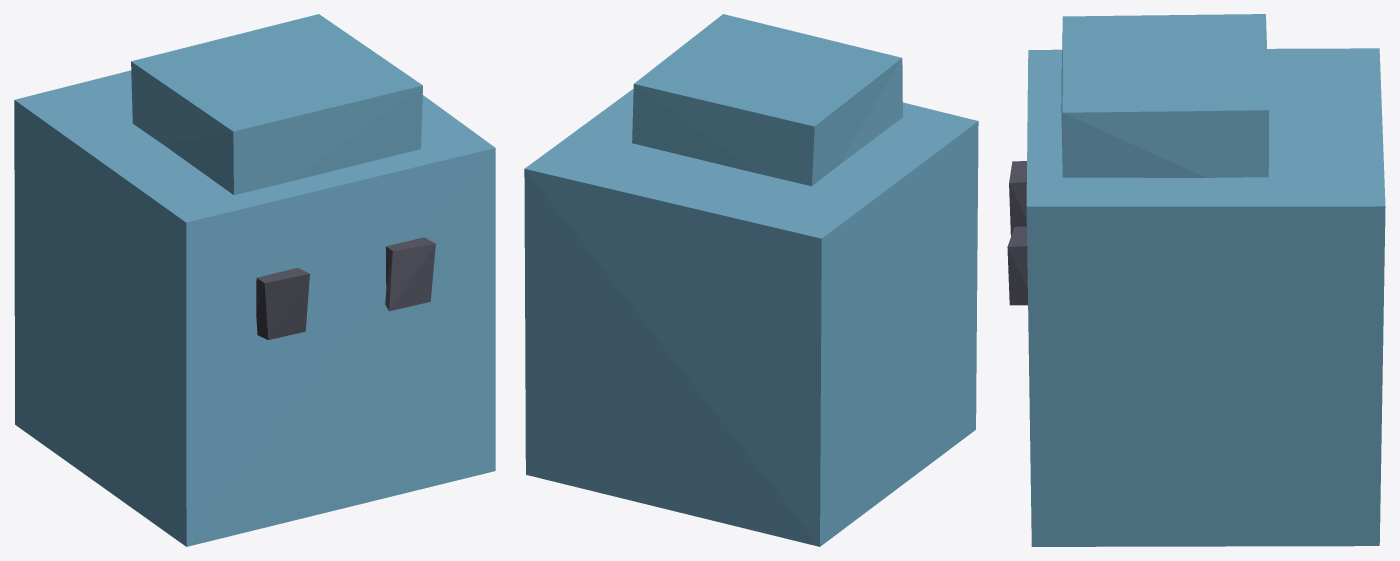
File: blob.glb
The picture shows the model from 3 angles, left to right: view 1: azimuth 30°, elevation 25°; view 2: azimuth 150°, elevation 25°; view 3: azimuth 270°, elevation 25°; orthographic projection. The views are drawn at different scales.
Visible parts, largest first — view 1: body; view 2: body; view 3: body.
Part boxes in pixels (x1,y1,x2,y2): body: (14, 14, 495, 546); body: (524, 14, 978, 546); body: (1007, 14, 1385, 546).
Size of the model in its own units: 0.909 by 1.08 by 0.9097.
